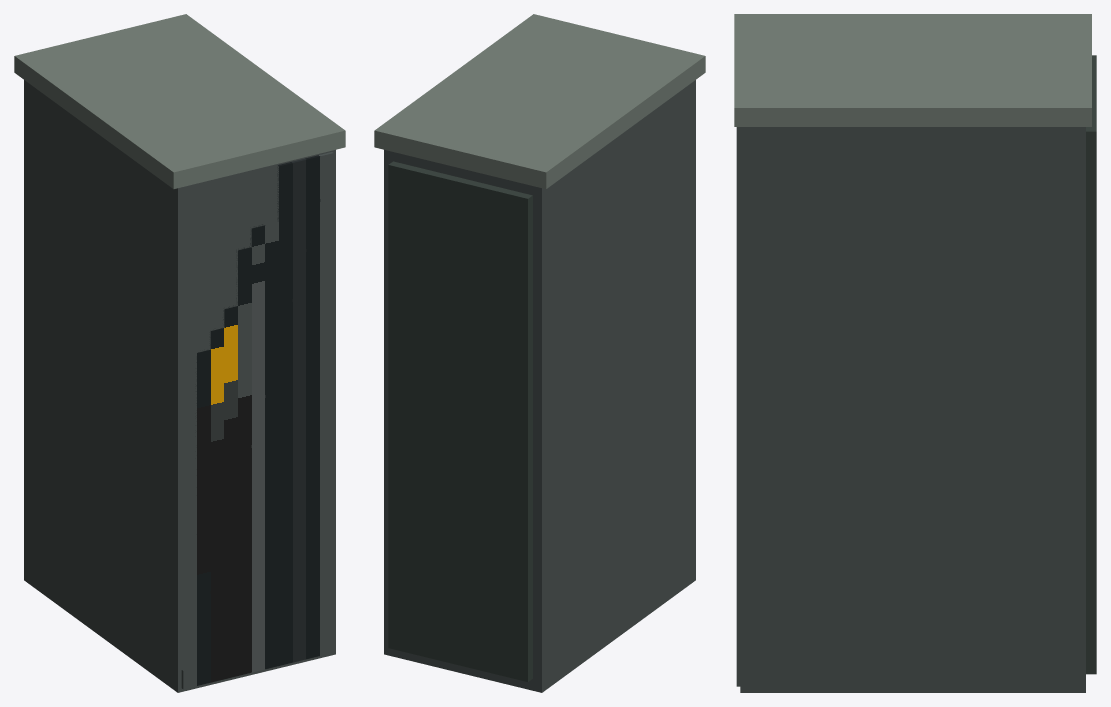
File: CMU3DInteriorVehicleAPCRear6.glb
3 renders of one model, left to right at view 1: azimuth 30°, elevation 25°; view 2: azimuth 150°, elevation 25°; view 3: azimuth 270°, elevation 25°, orthographic. The views are drawn at different scales.
Parts seen in each view (by area): view 1: closed equipment casing, source equipment controls, reinforced top; view 2: closed equipment casing, rear service plate, reinforced top; view 3: closed equipment casing, reinforced top, rear service plate, source equipment controls.
Part boxes in pixels (bbox=[...]): closed equipment casing: bbox=[24, 80, 335, 692]; source equipment controls: bbox=[181, 152, 333, 689]; reinforced top: bbox=[14, 14, 345, 188]; closed equipment casing: bbox=[384, 80, 695, 692]; rear service plate: bbox=[388, 161, 532, 681]; reinforced top: bbox=[374, 14, 705, 188]; closed equipment casing: bbox=[740, 127, 1085, 692]; reinforced top: bbox=[734, 14, 1091, 126]; rear service plate: bbox=[1086, 55, 1096, 674]; source equipment controls: bbox=[736, 127, 740, 686].
Bounding box in the file's own units: 0.3738 × 1.09 × 0.608.
4 materials, 1 textured.
